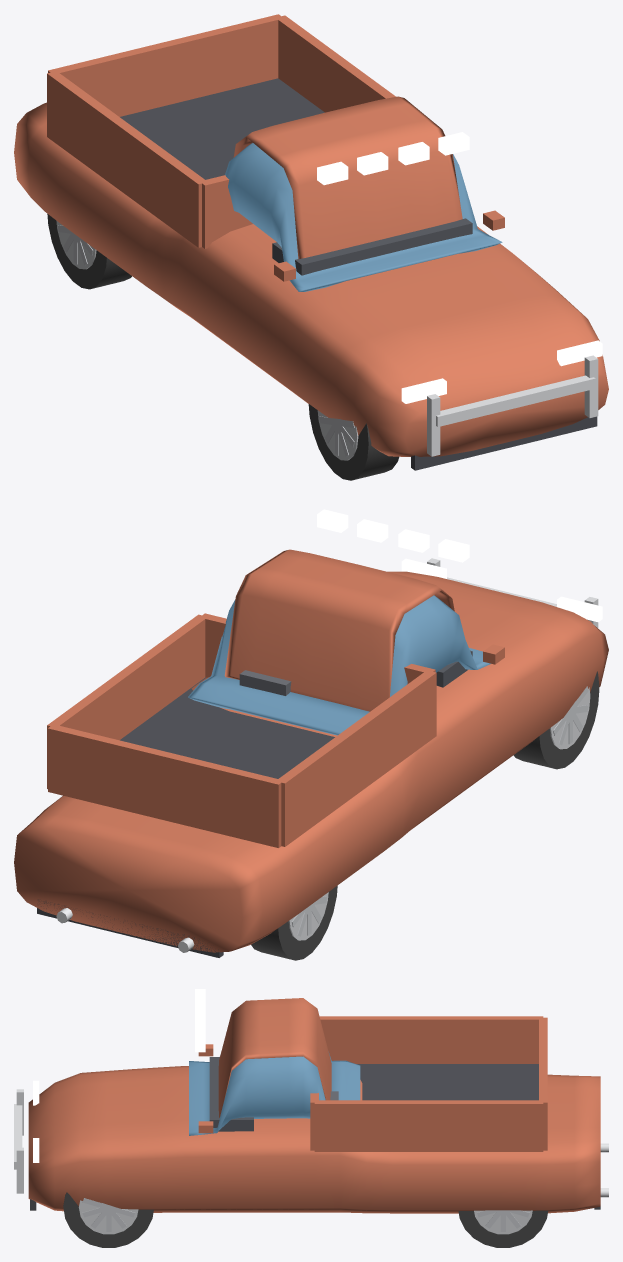
Rendered from hauler.glb.
3 renders of one model, top to bottom at view 1: azimuth 30°, elevation 25°; view 2: azimuth 150°, elevation 25°; view 3: azimuth 270°, elevation 25°, orthographic. The views are drawn at different scales.
Visible parts, largest first — view 1: Body, Car_hauler, Roof, Glass, Wheel_FR, Interior, Wheel_RR; view 2: Body, Car_hauler, Roof, Glass, Wheel_FR, Wheel_RR, Interior; view 3: Body, Car_hauler, Glass, Roof, Wheel_FL, Wheel_RL, Interior.
Part boxes in pixels (left/top/right/bottom): Body: left=14, top=102, right=608, bottom=456; Car_hauler: left=47, top=14, right=602, bottom=470; Roof: left=233, top=96, right=462, bottom=259; Glass: left=225, top=143, right=502, bottom=291; Wheel_FR: left=308, top=404, right=399, bottom=480; Interior: left=272, top=218, right=472, bottom=275; Wheel_RR: left=47, top=214, right=131, bottom=289; Body: left=14, top=571, right=608, bottom=952; Car_hauler: left=37, top=509, right=602, bottom=957; Roof: left=224, top=549, right=454, bottom=711; Glass: left=188, top=595, right=490, bottom=735; Wheel_FR: left=513, top=671, right=599, bottom=769; Wheel_RR: left=251, top=885, right=337, bottom=960; Interior: left=239, top=650, right=472, bottom=695; Body: left=28, top=1066, right=600, bottom=1213; Car_hauler: left=14, top=989, right=608, bottom=1210; Glass: left=189, top=1052, right=360, bottom=1135; Roof: left=218, top=998, right=331, bottom=1117; Wheel_FL: left=63, top=1192, right=153, bottom=1247; Wheel_RL: left=458, top=1210, right=548, bottom=1247; Interior: left=209, top=1057, right=338, bottom=1131.
Bounding box in the file's own units: 2 × 1.98 × 5.62.
